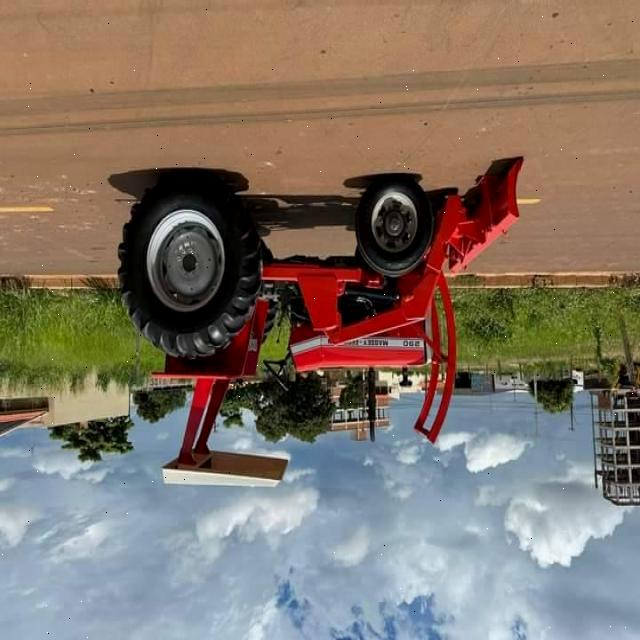Tratores - v5 YOLO V8L 2024-11-13: (120, 180, 434, 493)
